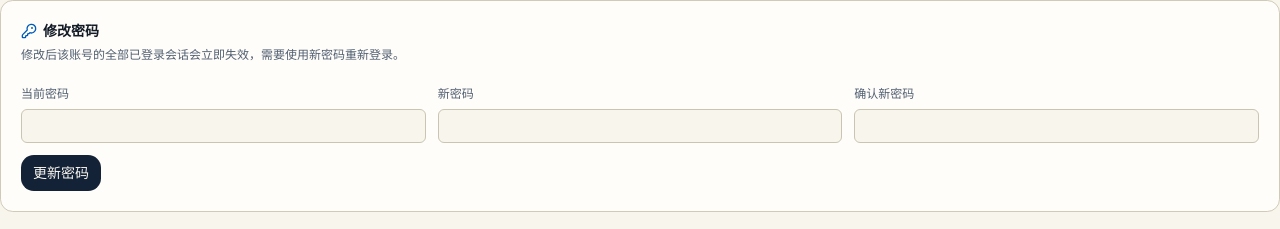
Test: 设置页修改密码表单 › 提交当前密码与新密码到 POST /auth/password，成功后展示 i18n 成功文案
Type "old-password" into the password field labelled "当前密码" at (223, 126), box [21, 109, 426, 143]
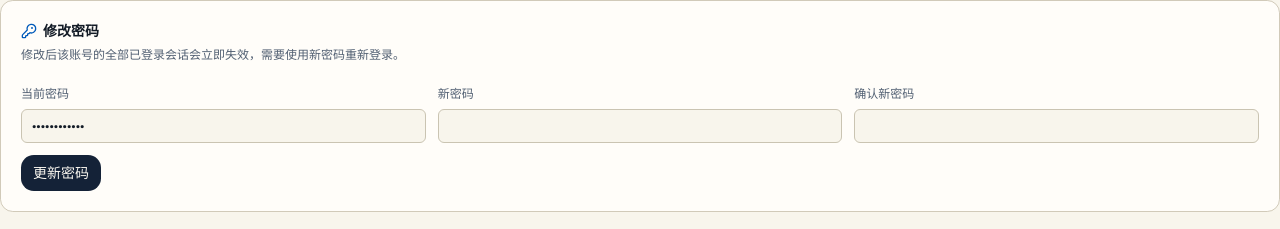
Type "new-password-1" into the password field labelled "新密码" at (640, 126), box [438, 109, 842, 143]
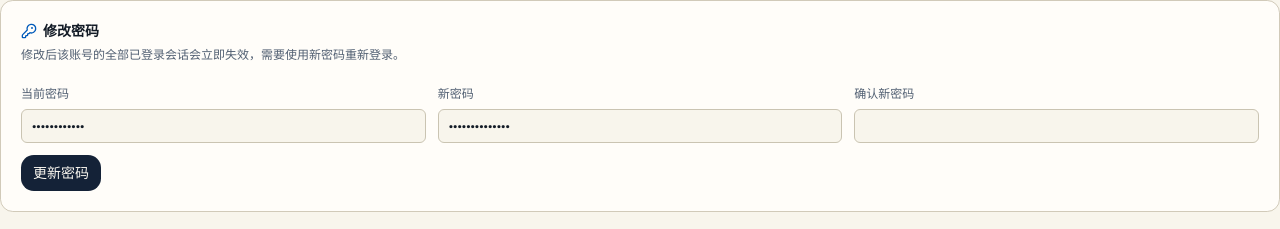
Type "new-password-1" into the password field labelled "确认新密码" at (1057, 126), box [854, 109, 1259, 143]
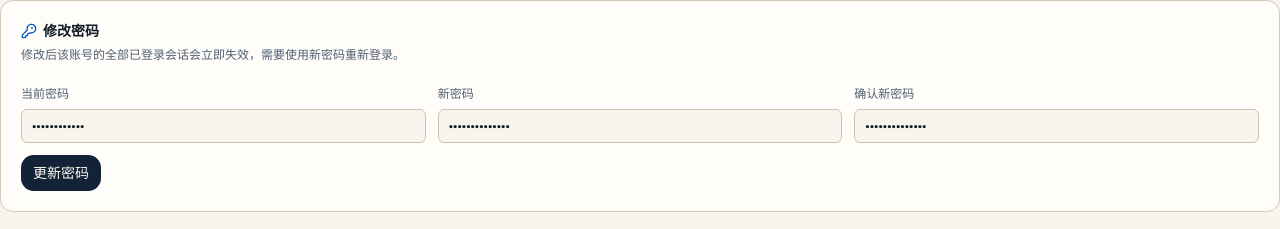
Click the button "更新密码" at (61, 173), box [21, 155, 101, 191]
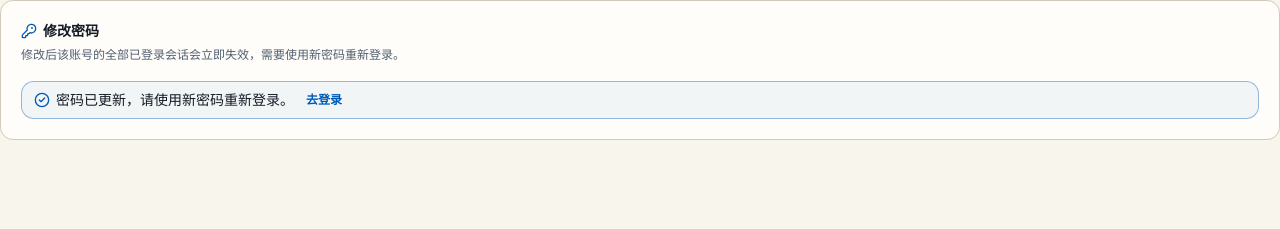
expect the text "密码已更新，请使用新密码重新登录。" is shown: met, box [34, 90, 294, 110]
